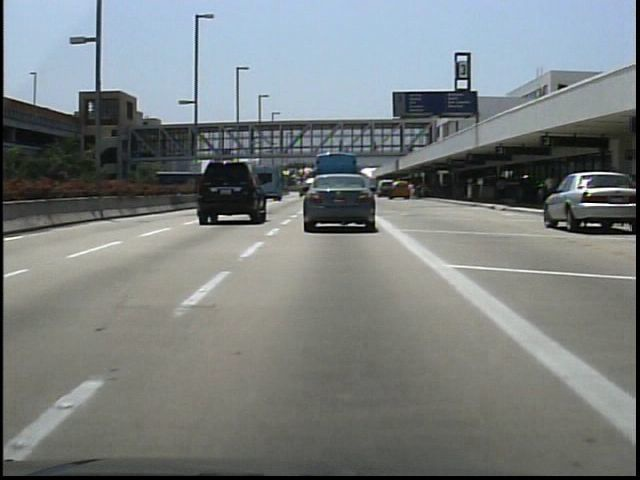person: (540, 169, 559, 210), (492, 174, 510, 208), (405, 178, 420, 205), (368, 137, 382, 158), (334, 136, 348, 156)
